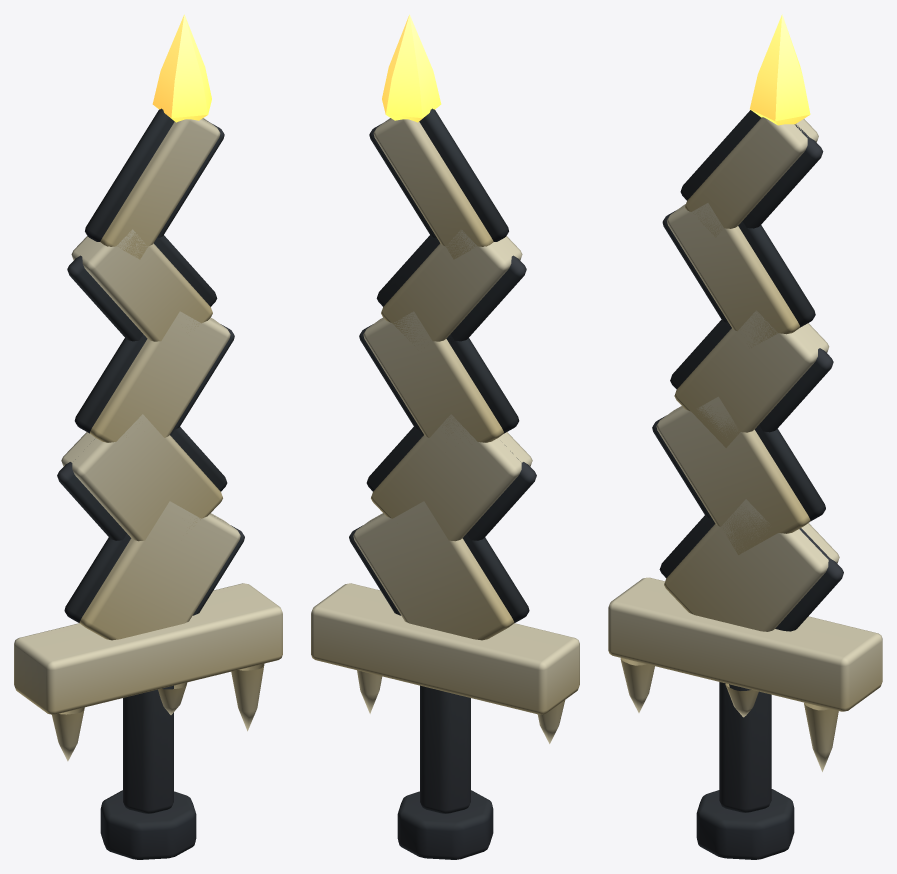
Rendered from lg_candlewax_kris.glb.
The picture shows the model from 3 angles, left to right: view 1: azimuth 30°, elevation 25°; view 2: azimuth 150°, elevation 25°; view 3: azimuth 330°, elevation 25°; orthographic projection. The views are drawn at different scales.
Visible parts, largest first — view 1: lg_candlewax_kris, lg_candlewax_kris_glow; view 2: lg_candlewax_kris, lg_candlewax_kris_glow; view 3: lg_candlewax_kris, lg_candlewax_kris_glow.
Boxes of the visible parts, x1=… form: lg_candlewax_kris: x1=14, y1=108, x2=282, y2=859; lg_candlewax_kris_glow: x1=152, y1=14, x2=211, y2=122; lg_candlewax_kris: x1=311, y1=108, x2=579, y2=859; lg_candlewax_kris_glow: x1=382, y1=14, x2=441, y2=122; lg_candlewax_kris: x1=608, y1=110, x2=882, y2=859; lg_candlewax_kris_glow: x1=750, y1=14, x2=810, y2=125.
Size of the model in its own units: 0.46 by 1.53 by 0.1646.
